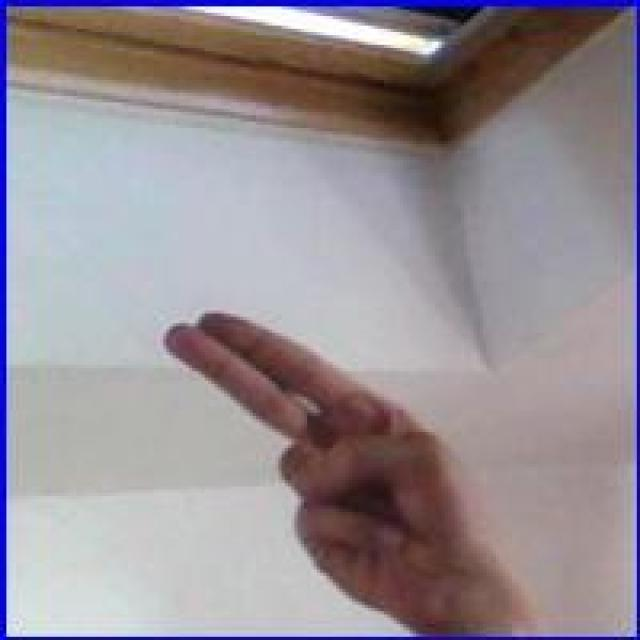H: (160, 304, 509, 624)
